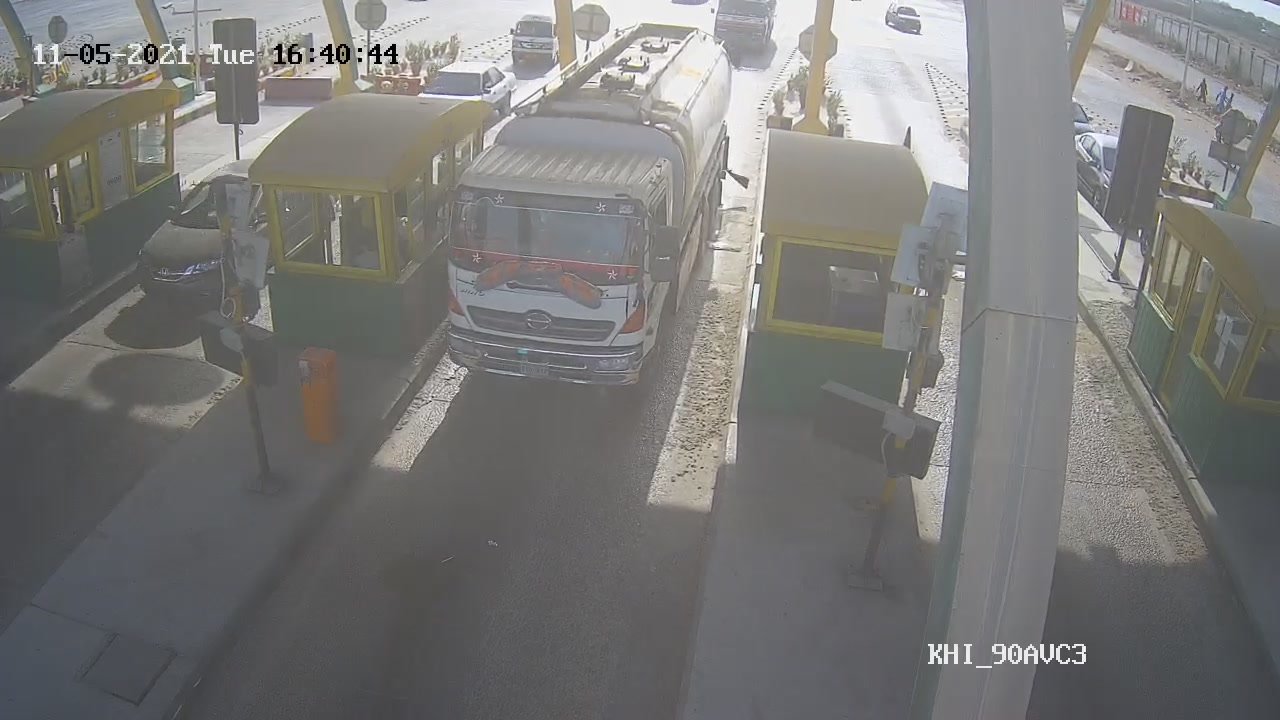F6: (441, 26, 732, 397)
